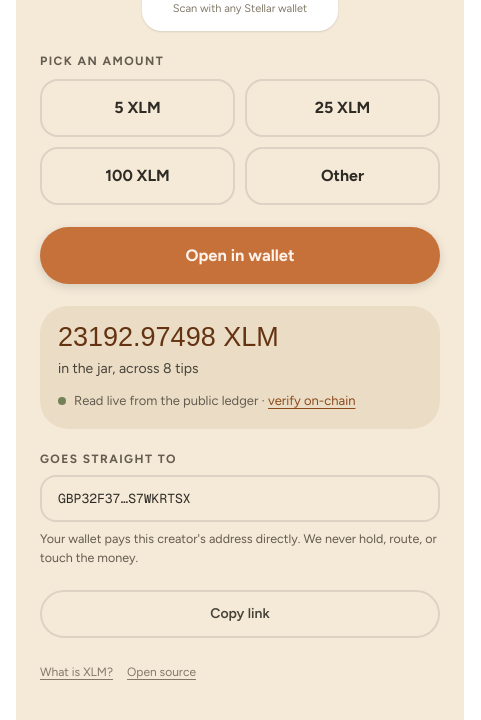
Test: tip page — address and ledger links › shows a truncated address but copies the full one
(page scrolled)
Step 1. Click the button titled "GBP32F37ZHXGSLOE4WAFCLNWQUMY4OUIAUGNBZUF4OD2BG6MS7WKRTSX" → (124, 498), box [40, 474, 440, 522]
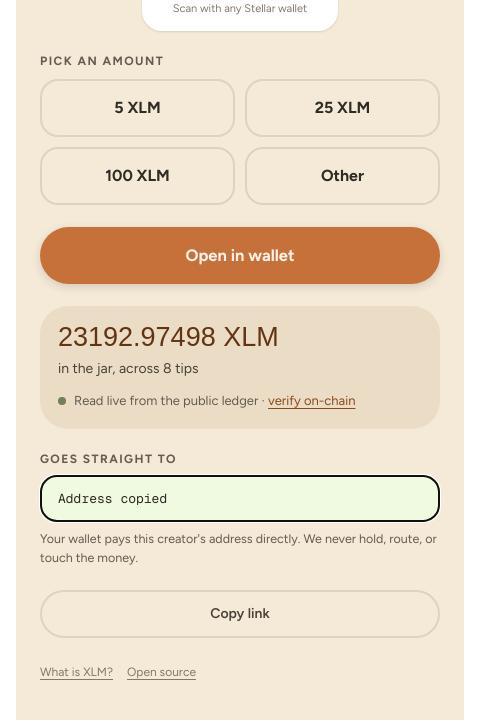
expect the button "Address copied" is shown: met, box [40, 474, 440, 522]
